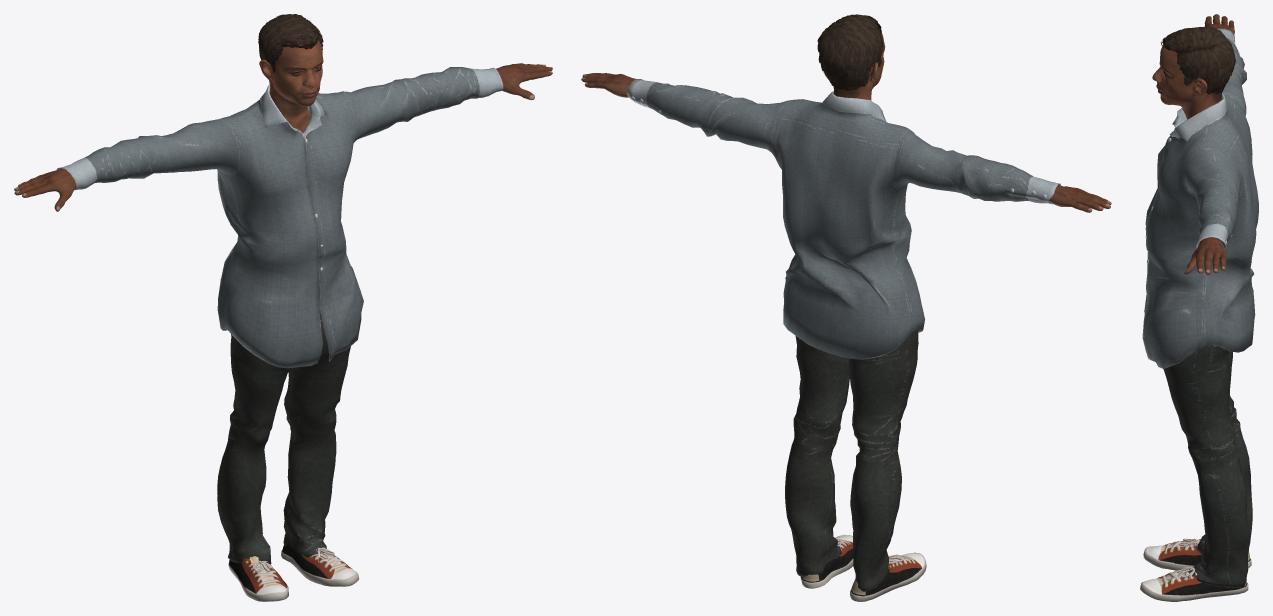
Rendered from DErek.obj.
3 renders of one model, left to right at view 1: azimuth 30°, elevation 25°; view 2: azimuth 150°, elevation 25°; view 3: azimuth 270°, elevation 25°, orthographic.
Parts seen in each view (by area): view 1: Tops, Bottoms, Body, Shoes, Hair; view 2: Tops, Bottoms, Hair, Shoes, Body; view 3: Tops, Bottoms, Body, Shoes, Hair.
Boxes of the visible parts, x1,y1,x2,y2 form: Tops: [56, 67, 503, 368]; Bottoms: [217, 311, 350, 563]; Body: [14, 19, 552, 211]; Shoes: [228, 544, 359, 601]; Hair: [258, 14, 323, 73]; Tops: [626, 79, 1060, 359]; Bottoms: [785, 330, 918, 591]; Hair: [817, 14, 883, 90]; Shoes: [800, 534, 926, 601]; Body: [581, 18, 1111, 212]; Tops: [1142, 28, 1258, 368]; Bottoms: [1163, 345, 1252, 587]; Body: [1152, 14, 1234, 274]; Shoes: [1140, 538, 1251, 601]; Hair: [1160, 26, 1235, 94].
Bounding box in the file's own units: 175 × 175 × 34.23.
5 materials, 5 textured.
